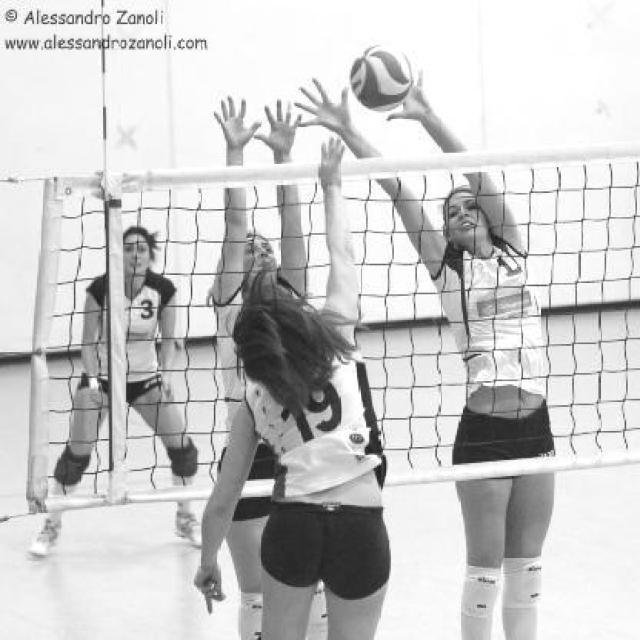volleyball: (349, 42, 414, 114)
